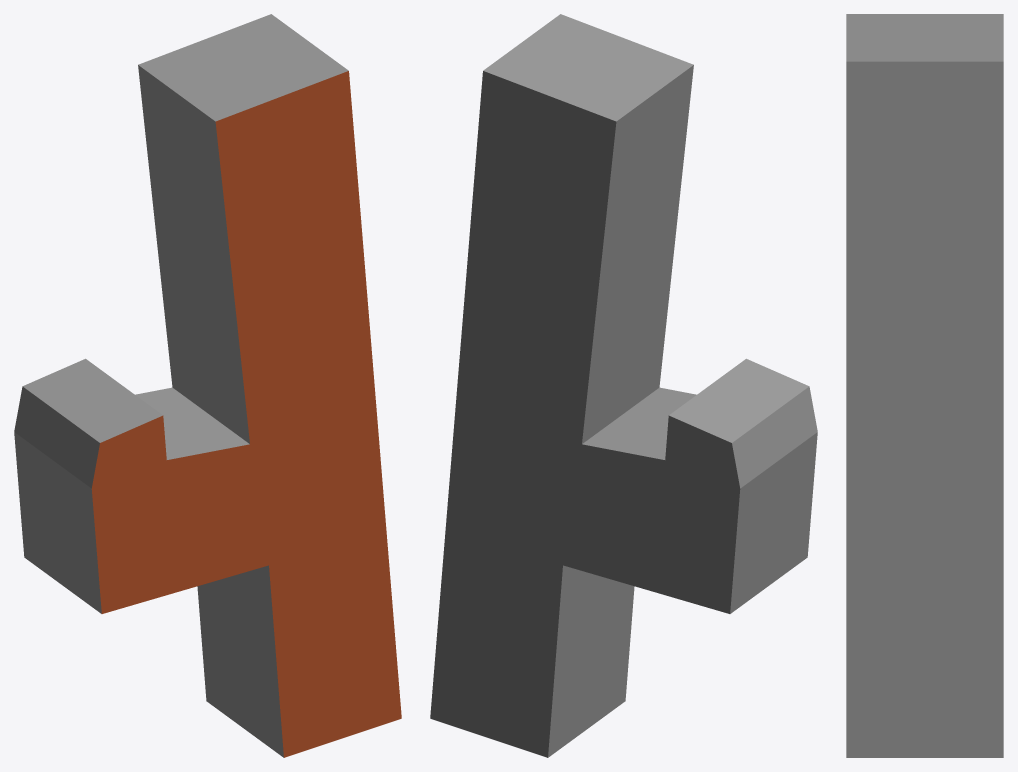
File: construction_1804_assumed_A_Casa_h6m.obj
3 renders of one model, left to right at view 1: azimuth 30°, elevation 25°; view 2: azimuth 150°, elevation 25°; view 3: azimuth 270°, elevation 25°, orthographic.
Visible parts, largest first — view 1: construction_1804_assumed_A_Casa; view 2: construction_1804_assumed_A_Casa; view 3: construction_1804_assumed_A_Casa.
Boxes of the visible parts, x1=… form: construction_1804_assumed_A_Casa: x1=14, y1=14, x2=401, y2=757; construction_1804_assumed_A_Casa: x1=430, y1=14, x2=817, y2=757; construction_1804_assumed_A_Casa: x1=846, y1=14, x2=1003, y2=757.
Bounding box in the file's own units: 13.85 × 28.65 × 6.
